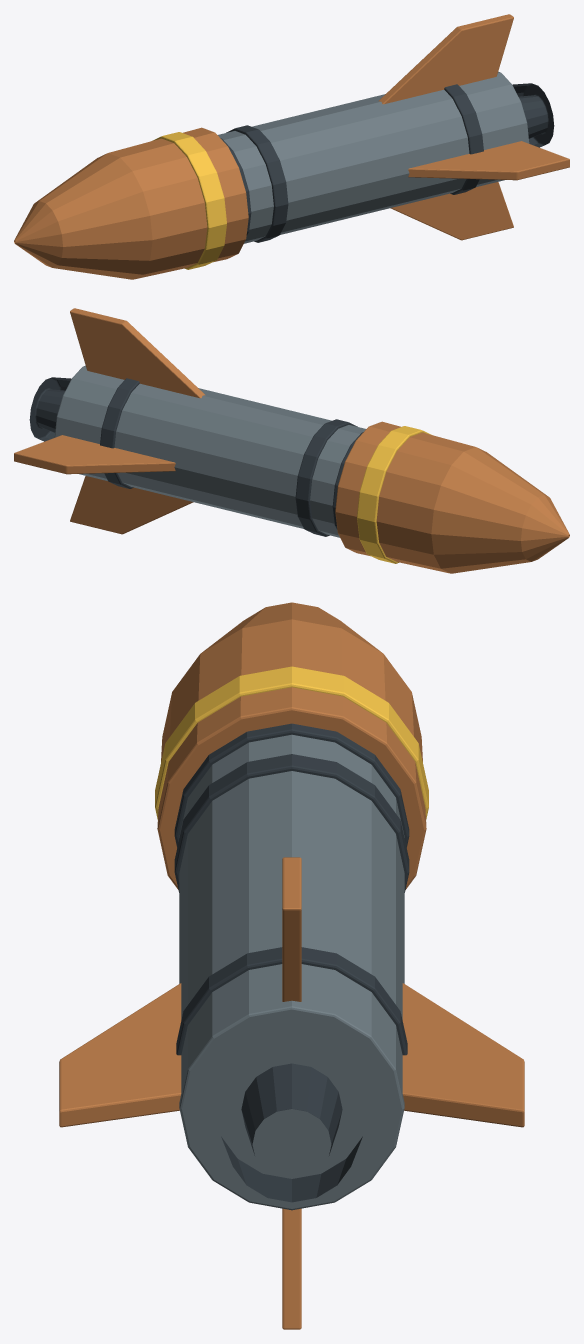
The model's file is rocket.glb.
The picture shows the model from 3 angles, top to bottom: view 1: azimuth 30°, elevation 25°; view 2: azimuth 150°, elevation 25°; view 3: azimuth 270°, elevation 25°; orthographic projection. The views are drawn at different scales.
Parts seen in each view (by area): view 1: RL01_PROJECTILE_BODY; view 2: RL01_PROJECTILE_BODY; view 3: RL01_PROJECTILE_BODY.
Boxes of the visible parts, box(x1,y1,x2,y2) form: RL01_PROJECTILE_BODY: box(14, 14, 569, 279); RL01_PROJECTILE_BODY: box(14, 308, 569, 573); RL01_PROJECTILE_BODY: box(59, 602, 524, 1329).
Size of the model in its own units: 0.4945 by 0.19 by 0.19.
